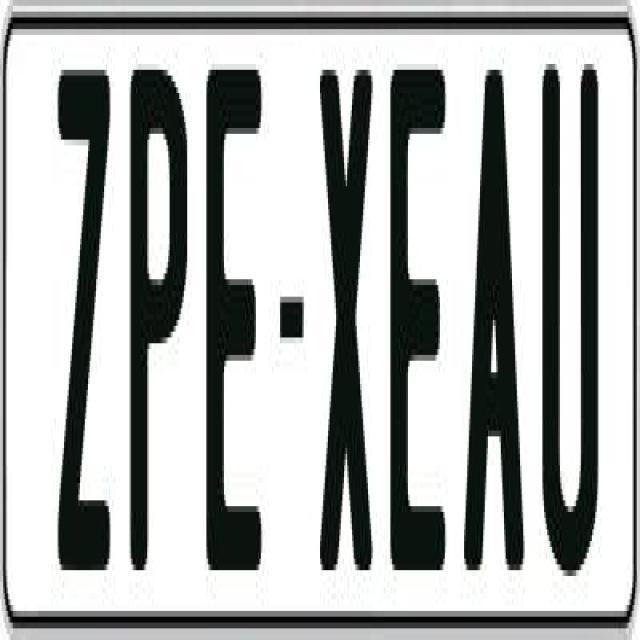A: (459, 58, 520, 588)
E: (386, 64, 442, 594), (206, 58, 262, 564)
P: (126, 52, 192, 588)
U: (539, 52, 600, 588)
X: (318, 64, 376, 570)
Z: (54, 64, 109, 576)
